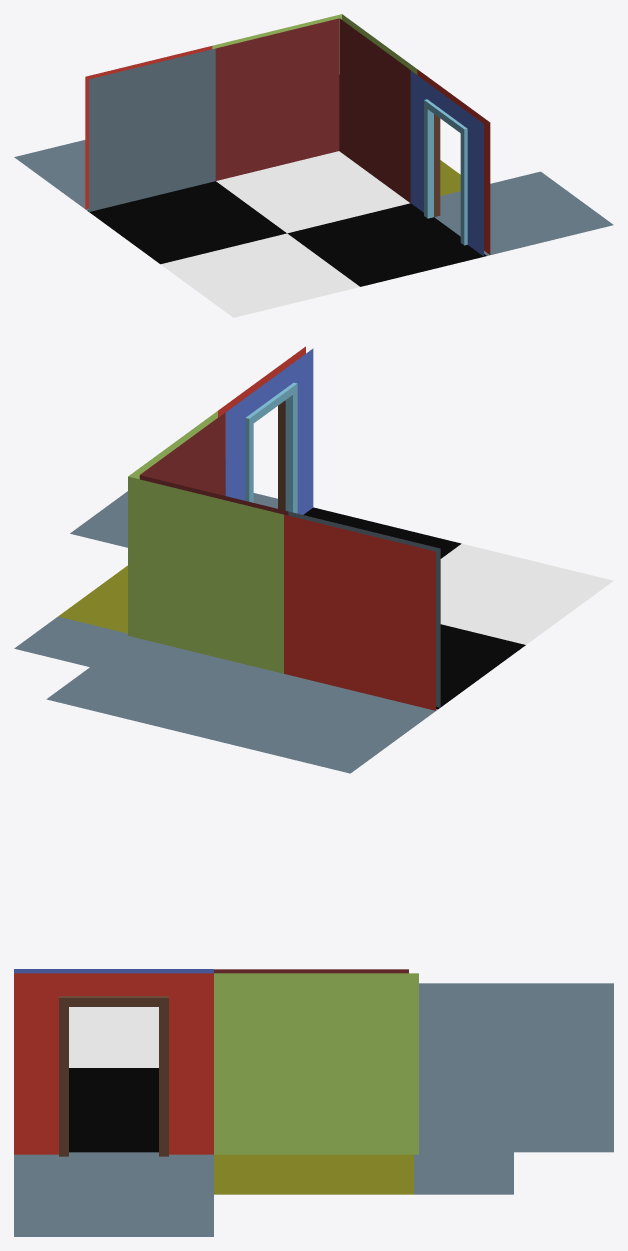
File: Modular_Building_Assets.fbx
3 views of the same model, one above another, from view 1: azimuth 30°, elevation 25°; view 2: azimuth 150°, elevation 25°; view 3: azimuth 270°, elevation 25° (orthographic). The views are drawn at different scales.
Visible parts, largest first — view 1: Plane.021, Plane.008, Plane.013, Plane.019, Plane.001, Plane.020, Plane.009, Plane.003, Plane, Plane.017, Plane.007, Plane.004 (+5 smaller); view 2: Plane.011, Plane.018, Plane.017, Plane.015, Plane.019, Plane, Plane.013, Plane.020, Plane.014, Plane.007, Plane.010, Plane.003 (+6 smaller); view 3: Plane.012, Plane.004, Plane.003, Plane.015, Plane.017, Plane.010, Plane.001, Plane.019, Plane.014, Plane.006, Plane, Plane.013.
Boxes of the visible parts, <box> form: Plane.021: <box>89,48,215,211</box>; Plane.008: <box>215,18,339,180</box>; Plane.013: <box>339,18,410,202</box>; Plane.019: <box>161,233,359,317</box>; Plane.001: <box>287,203,486,286</box>; Plane.020: <box>87,181,286,264</box>; Plane.009: <box>216,151,409,233</box>; Plane.003: <box>434,171,613,255</box>; Plane: <box>410,71,483,256</box>; Plane.017: <box>14,140,88,210</box>; Plane.007: <box>424,99,467,245</box>; Plane.004: <box>417,69,490,254</box>; Plane.011: <box>128,476,283,673</box>; Plane.018: <box>284,514,435,710</box>; Plane.017: <box>198,674,437,773</box>; Plane.015: <box>46,637,283,736</box>; Plane.019: <box>440,543,613,644</box>; Plane: <box>225,348,313,514</box>; Plane.013: <box>139,413,225,495</box>; Plane.020: <box>436,624,525,709</box>; Plane.014: <box>14,616,131,666</box>; Plane.007: <box>245,382,297,513</box>; Plane.010: <box>58,565,127,633</box>; Plane.003: <box>70,491,277,547</box>; Plane.012: <box>214,973,418,1154</box>; Plane.004: <box>14,973,213,1154</box>; Plane.003: <box>14,1152,213,1236</box>; Plane.015: <box>419,1068,613,1152</box>; Plane.017: <box>419,983,613,1067</box>; Plane.010: <box>214,1154,413,1194</box>; Plane.001: <box>69,1068,158,1152</box>; Plane.019: <box>69,1007,158,1067</box>; Plane.014: <box>414,1152,513,1194</box>; Plane.006: <box>59,996,168,1156</box>; Plane: <box>14,969,213,973</box>; Plane.013: <box>214,969,408,973</box>.
Bounding box in the file's own units: 600 × 200 × 600.
